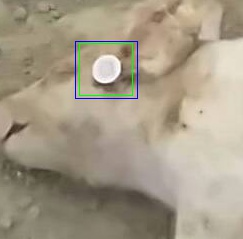text: (79, 43, 132, 95)
